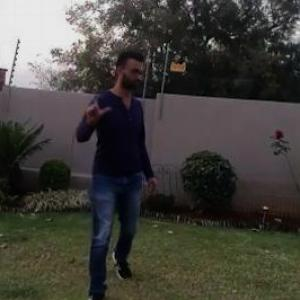land_hand: (81, 82, 114, 121)
